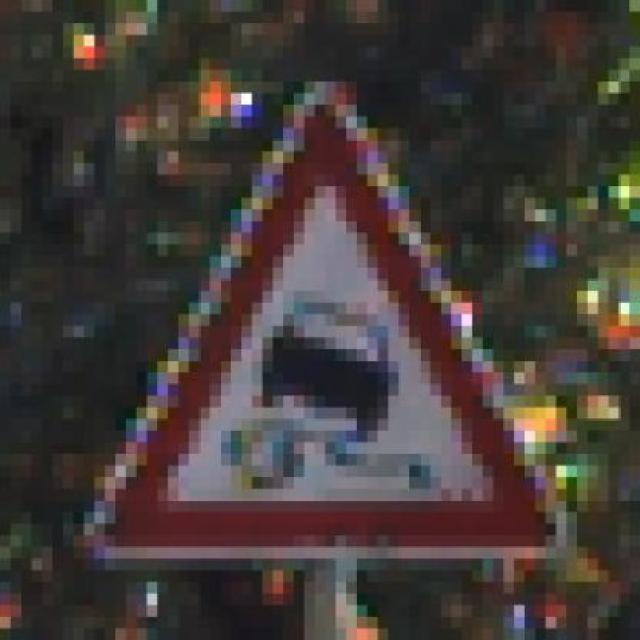Slippery Road Ahead: (62, 59, 556, 558)
